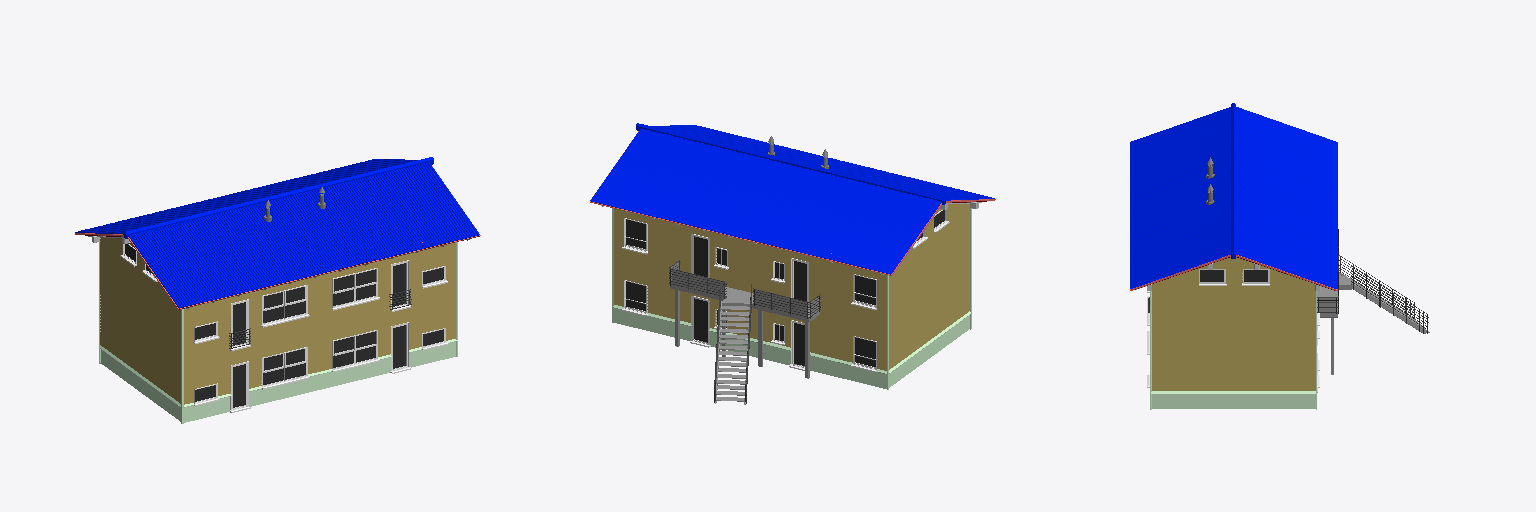
The model's file is house.obj.
3 views of the same model, side by side, from view 1: azimuth 30°, elevation 25°; view 2: azimuth 150°, elevation 25°; view 3: azimuth 270°, elevation 25° (orthographic).
Visible parts, largest first — view 1: Apartment_House; view 2: Apartment_House; view 3: Apartment_House.
Boxes of the visible parts, x1,y1,x2,y2 form: Apartment_House: [75, 157, 480, 423]; Apartment_House: [590, 123, 995, 404]; Apartment_House: [1130, 103, 1429, 409].
Bounding box in the file's own units: 517 × 280 × 436.